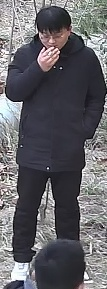smoking: (26, 16, 75, 83)
